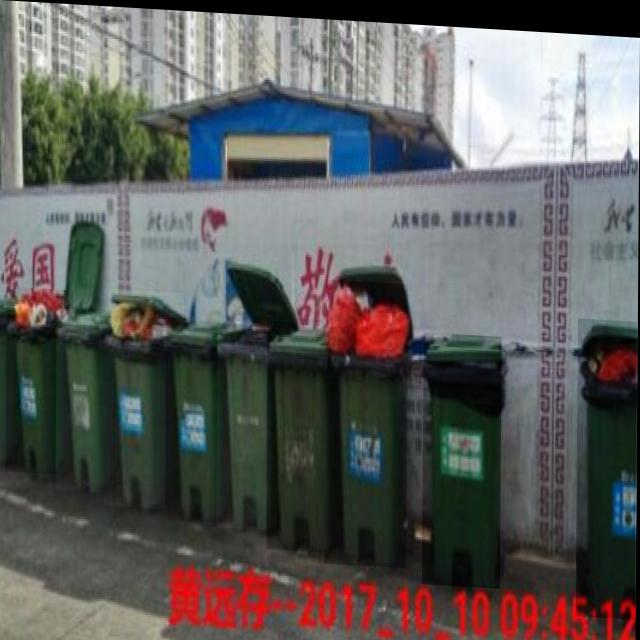garbage_bin: (423, 327, 503, 582), (267, 317, 330, 549), (166, 315, 232, 521), (217, 322, 276, 527), (56, 308, 117, 492)
overflow: (325, 275, 409, 563), (577, 311, 637, 612), (104, 287, 184, 508), (7, 286, 74, 475)
